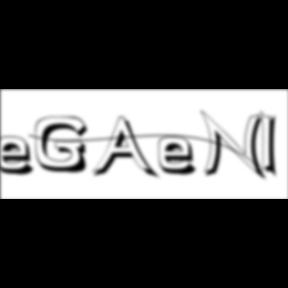A: (92, 116, 160, 182)
G: (36, 116, 94, 176)
N: (200, 109, 270, 183)
e: (158, 135, 204, 178), (0, 135, 42, 178)
l: (260, 108, 284, 182)
